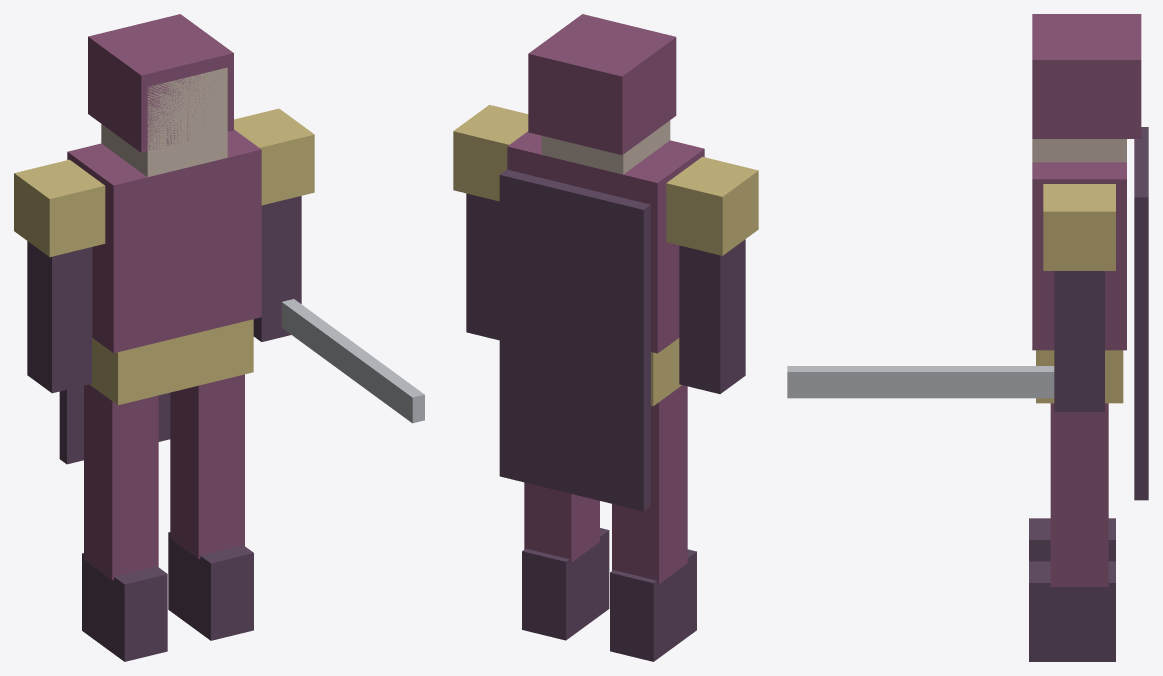
The model's file is kaelen_charlatan.glb.
3 renders of one model, left to right at view 1: azimuth 30°, elevation 25°; view 2: azimuth 150°, elevation 25°; view 3: azimuth 270°, elevation 25°, orthographic. The views are drawn at different scales.
Parts seen in each view (by area): view 1: kaelen_charlatan; view 2: kaelen_charlatan; view 3: kaelen_charlatan.
Boxes of the visible parts, x1,y1,x2,y2 form: kaelen_charlatan: [14, 14, 424, 661]; kaelen_charlatan: [453, 14, 758, 661]; kaelen_charlatan: [787, 14, 1148, 661].
Bounding box in the file's own units: 0.86 × 1.8 × 0.995.
